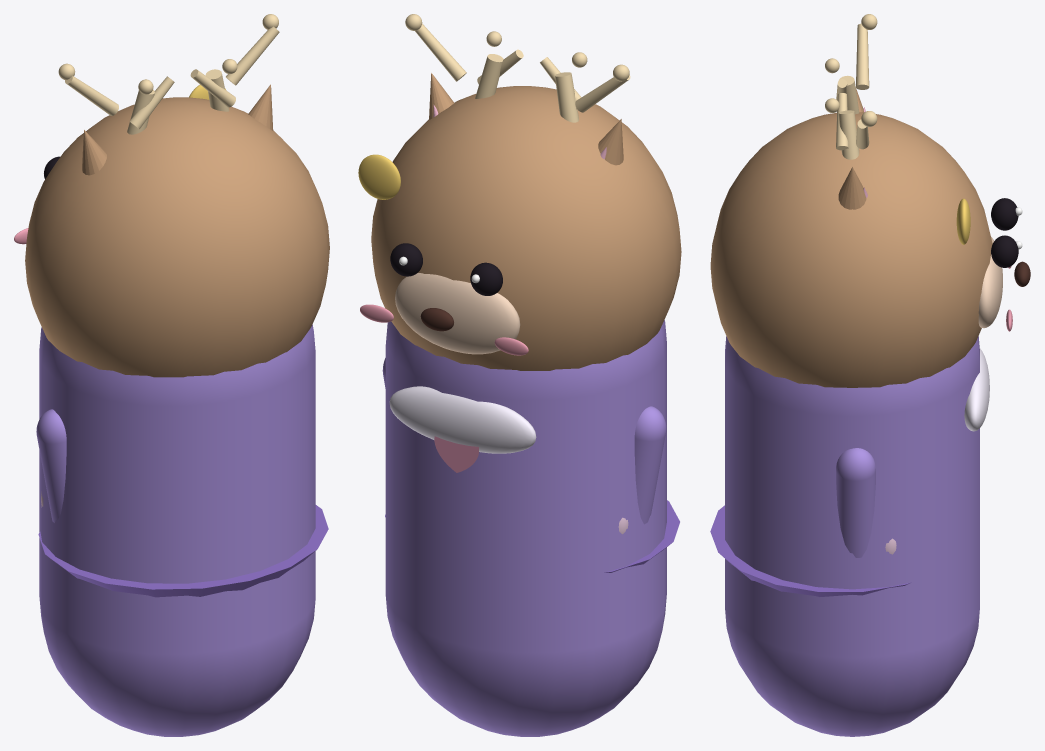
File: miss-malia.glb
3 views of the same model, side by side, from view 1: azimuth 30°, elevation 25°; view 2: azimuth 150°, elevation 25°; view 3: azimuth 270°, elevation 25° (orthographic). The views are drawn at different scales.
Bounding box in the file's own units: 0.9109 × 2.16 × 0.9508.
